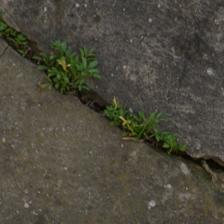Crack: (5, 18, 222, 172)
